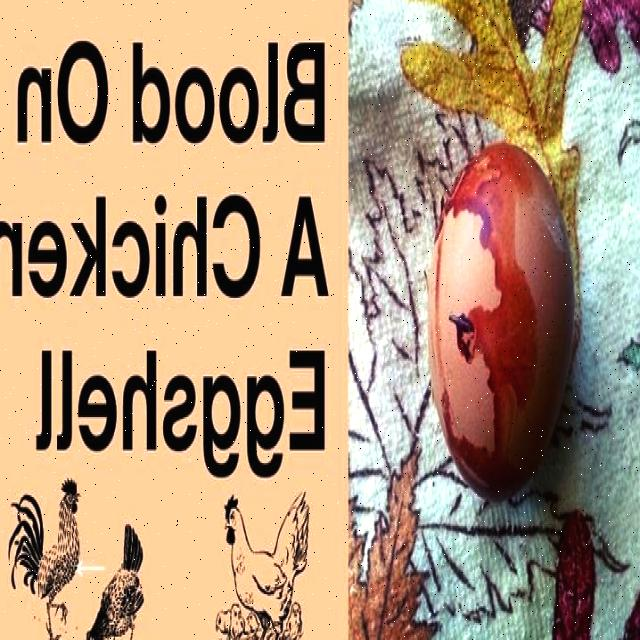Blood Stained Egg: (431, 121, 577, 511)
